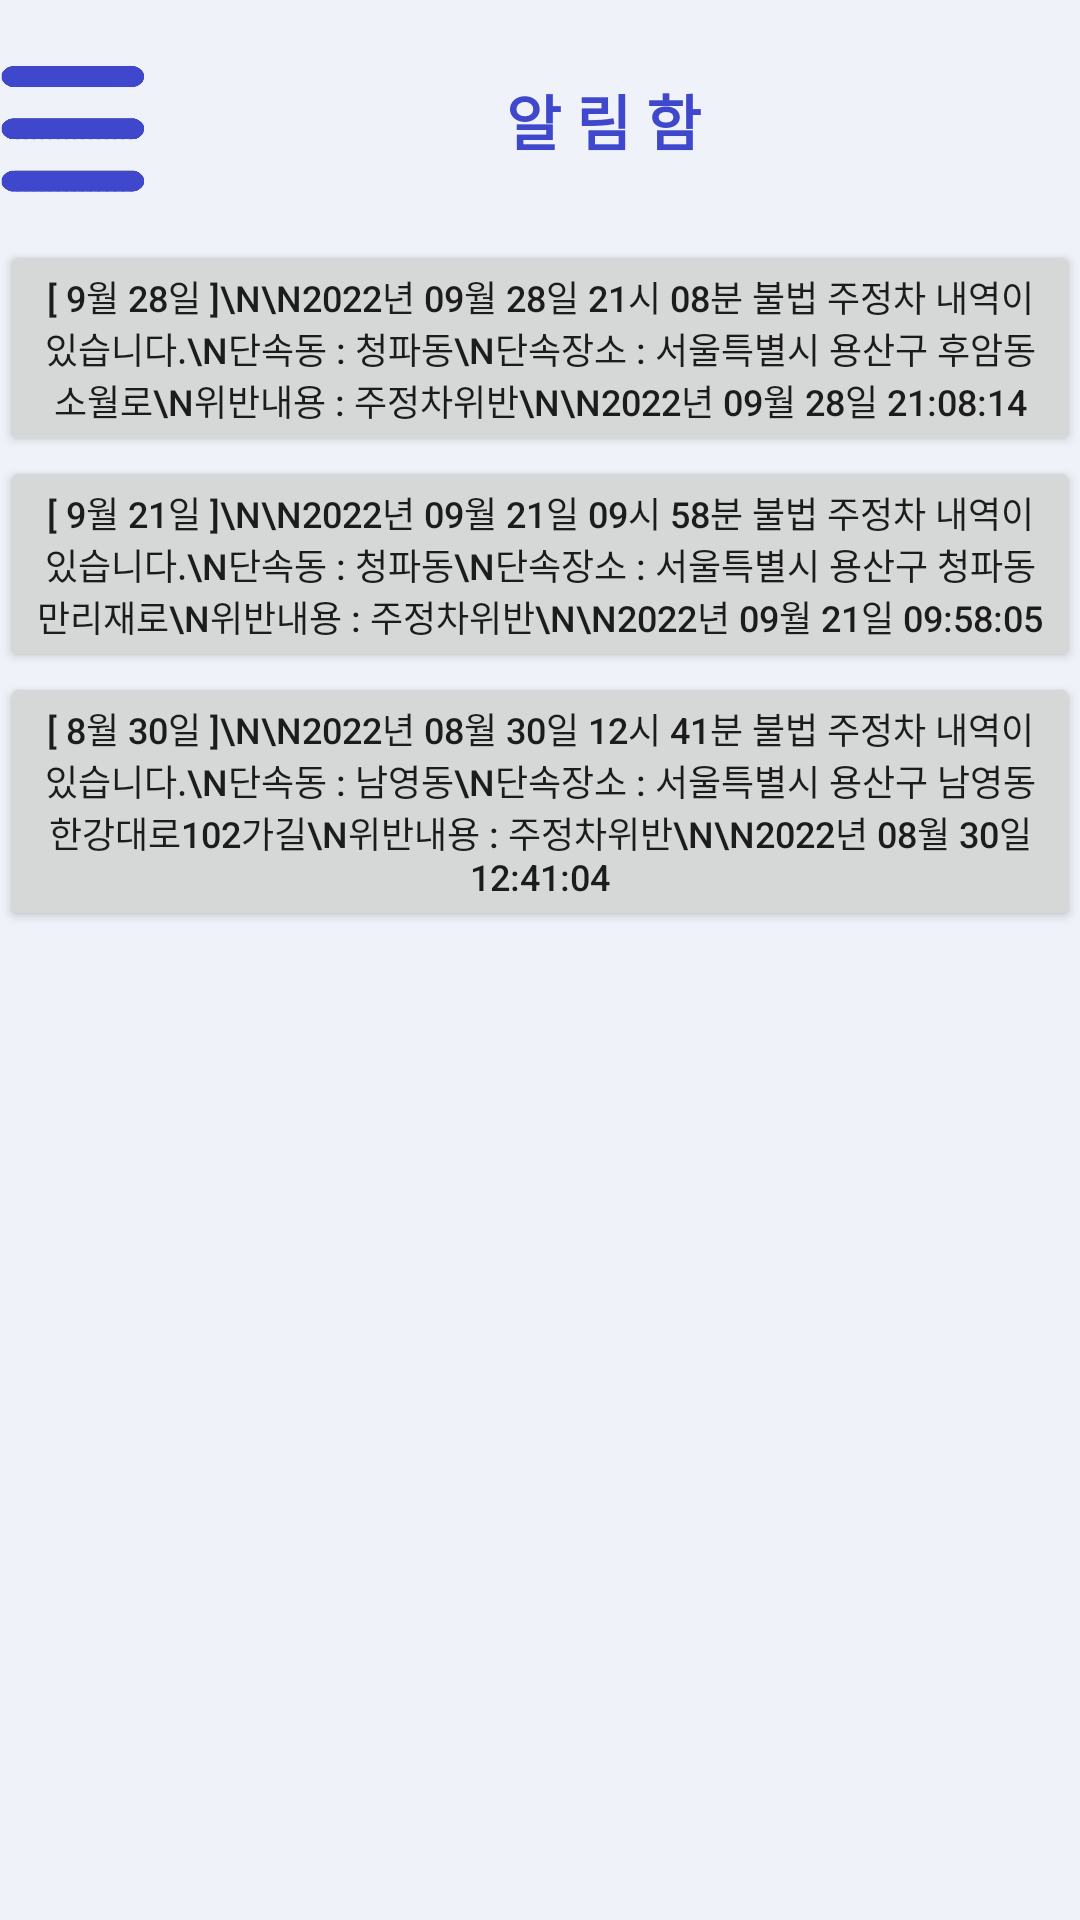

Where to tap for icons on this 1080w x 1920h app screen, as [x,y]:
list: [72,129]
